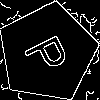P: (22, 27, 79, 79)
